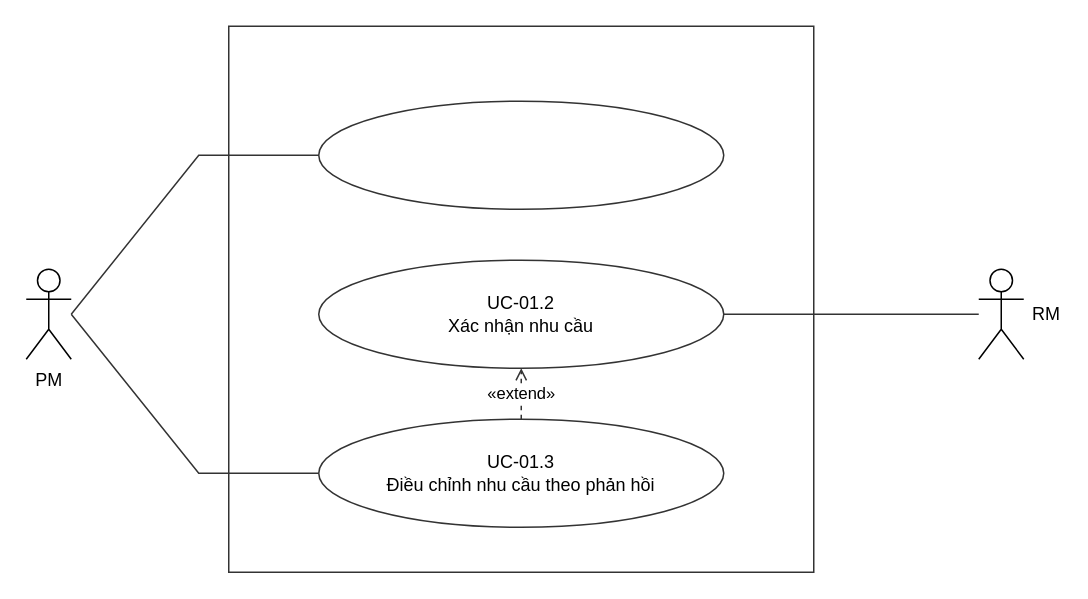
The diagram is 1088 pixels wide and 599 high, and some of its shapes have lost their labels. The shapes that lost their labels are listed below. From the top down, each one's box as (x1, y1, x2, y2) in pixels, then its label:
(317, 100, 724, 209): UC-01.1 Xây dựng và hoàn thiện nhu cầu
(227, 25, 814, 572): UC-01 Xác định nhu cầu nguồn lực (V2)
